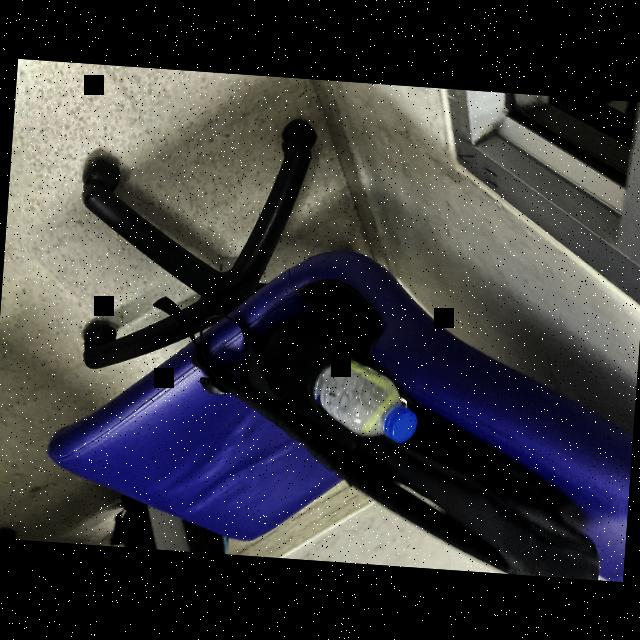plastic_bottle: (306, 349, 428, 444)
plastic_bottle_cap: (384, 402, 418, 443)
straw: (334, 359, 404, 434)
